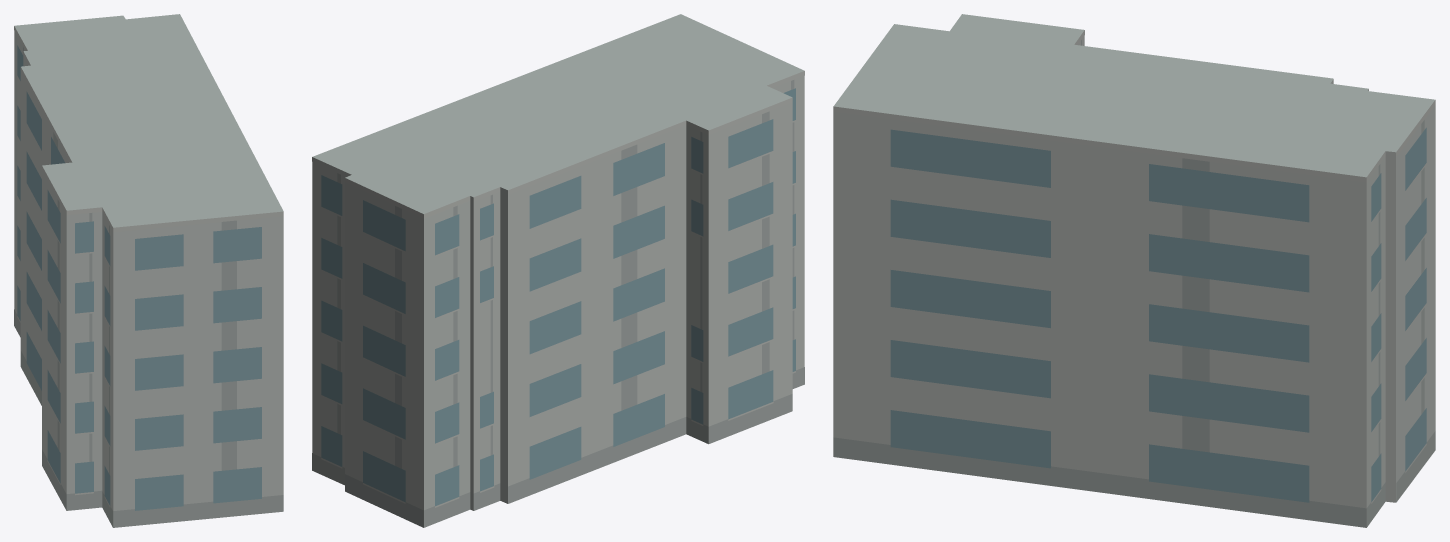
Rendered from survey-upis-32993954.glb.
3 views of the same model, side by side, from view 1: azimuth 30°, elevation 25°; view 2: azimuth 150°, elevation 25°; view 3: azimuth 270°, elevation 25° (orthographic). The views are drawn at different scales.
Parts seen in each view (by area): view 1: survey-upis-32993954.tmp; view 2: survey-upis-32993954.tmp; view 3: survey-upis-32993954.tmp.
Boxes of the visible parts, <box> form: survey-upis-32993954.tmp: <box>14,14,283,527</box>; survey-upis-32993954.tmp: <box>312,14,804,527</box>; survey-upis-32993954.tmp: <box>833,14,1435,527</box>.
Size of the model in its own units: 16.1 by 16.1 by 25.07.
